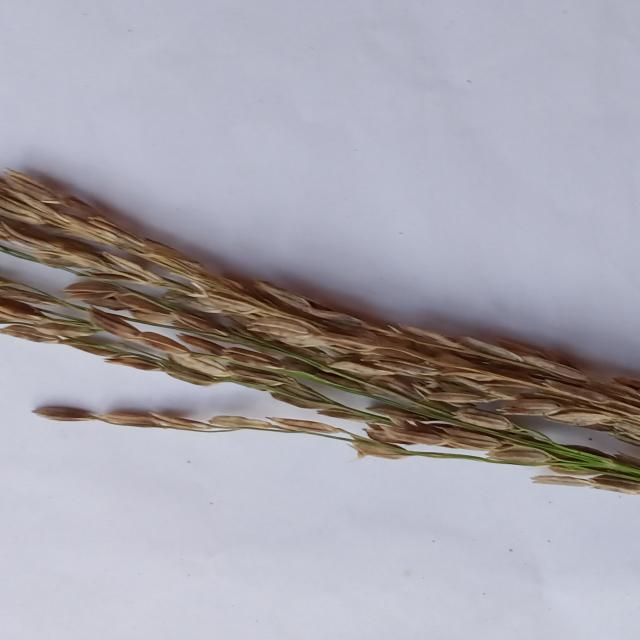Neck_Blast: (0, 161, 640, 441), (36, 402, 640, 489)
